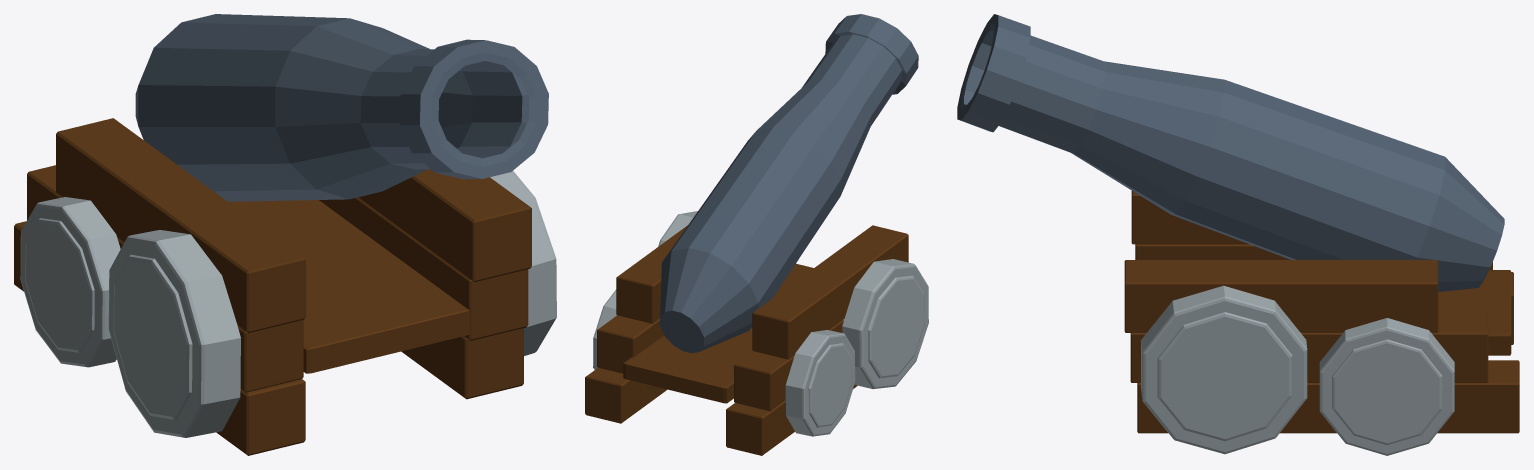
The model's file is canon.fbx.
3 renders of one model, left to right at view 1: azimuth 30°, elevation 25°; view 2: azimuth 150°, elevation 25°; view 3: azimuth 270°, elevation 25°, orthographic. The views are drawn at different scales.
Visible parts, largest first — view 1: canon; view 2: canon; view 3: canon.
Part boxes in pixels (x1,y1,x2,y2): canon: (14,14,556,455); canon: (585,14,928,455); canon: (957,14,1519,455).
Size of the model in its own units: 19.28 by 23 by 31.62.
